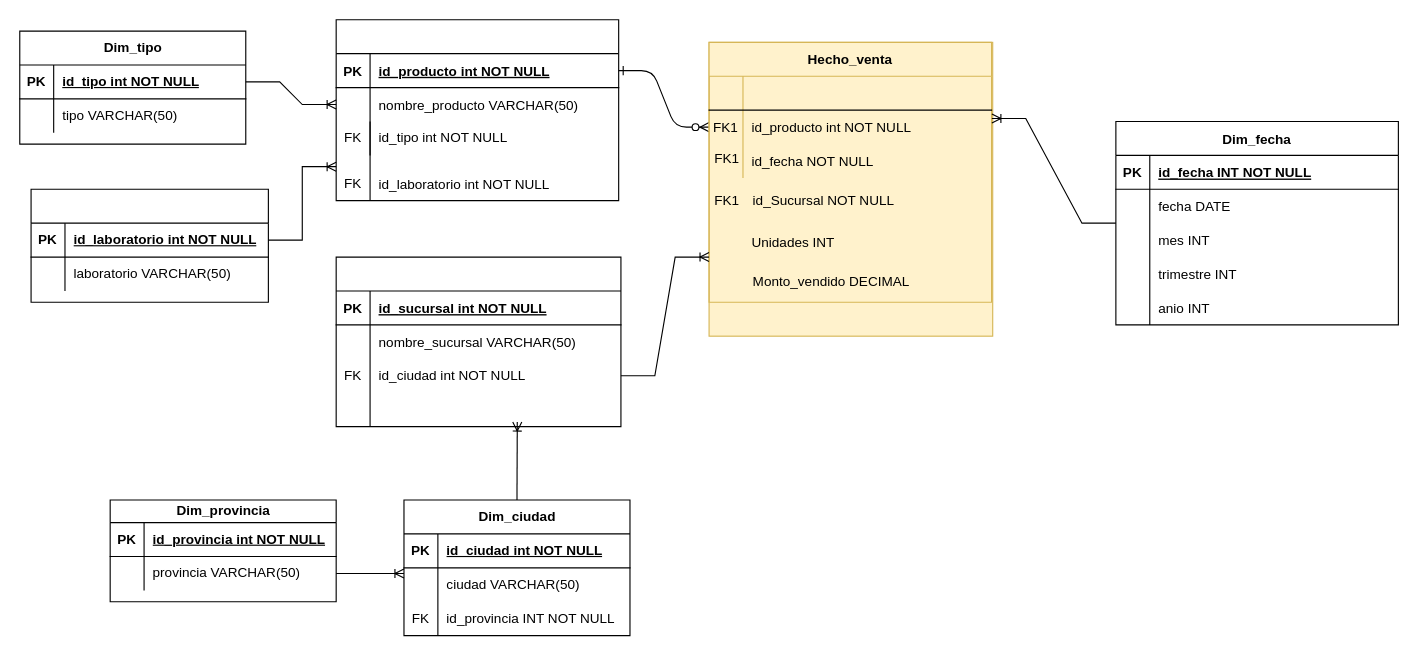
Some shapes in this 1418 by 655 pixel diagram are drawn without their labels. The box of each missing label's shape, as (x1, y1, x2, y2) in pixels:
Dim_laboratorio: (30, 188, 268, 302)
Dim_producto: (335, 19, 619, 201)
Dim_Sucursal: (335, 256, 621, 427)
